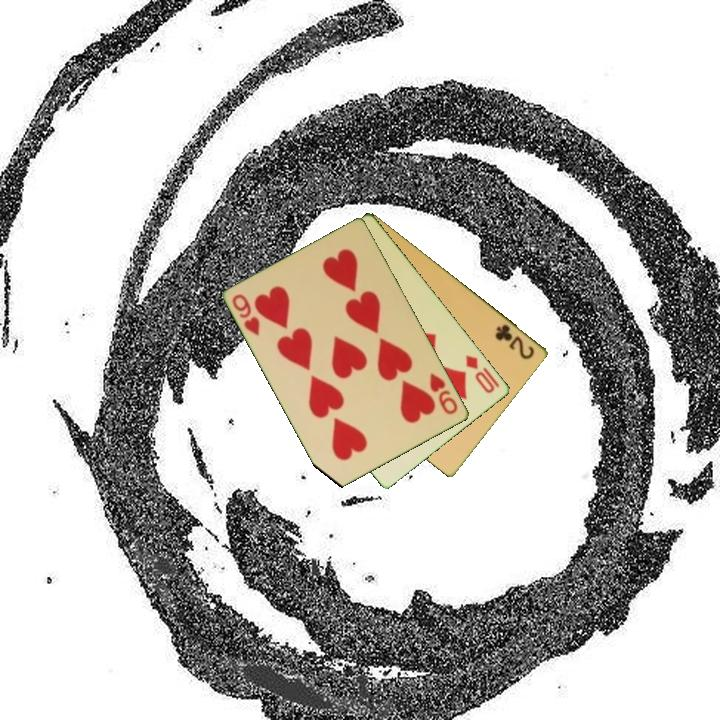10d: (462, 351, 503, 396)
2c: (492, 321, 538, 362)
9h: (426, 370, 461, 418), (229, 290, 263, 339)
